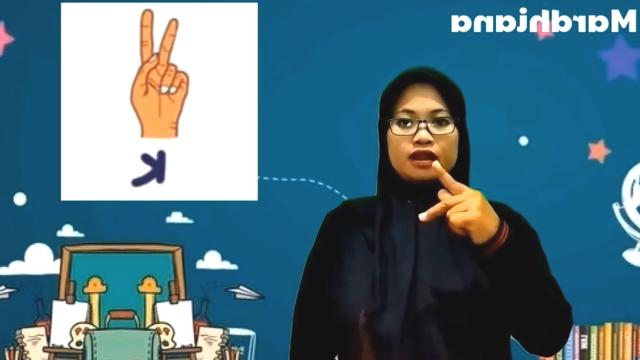K: (416, 162, 492, 242)
